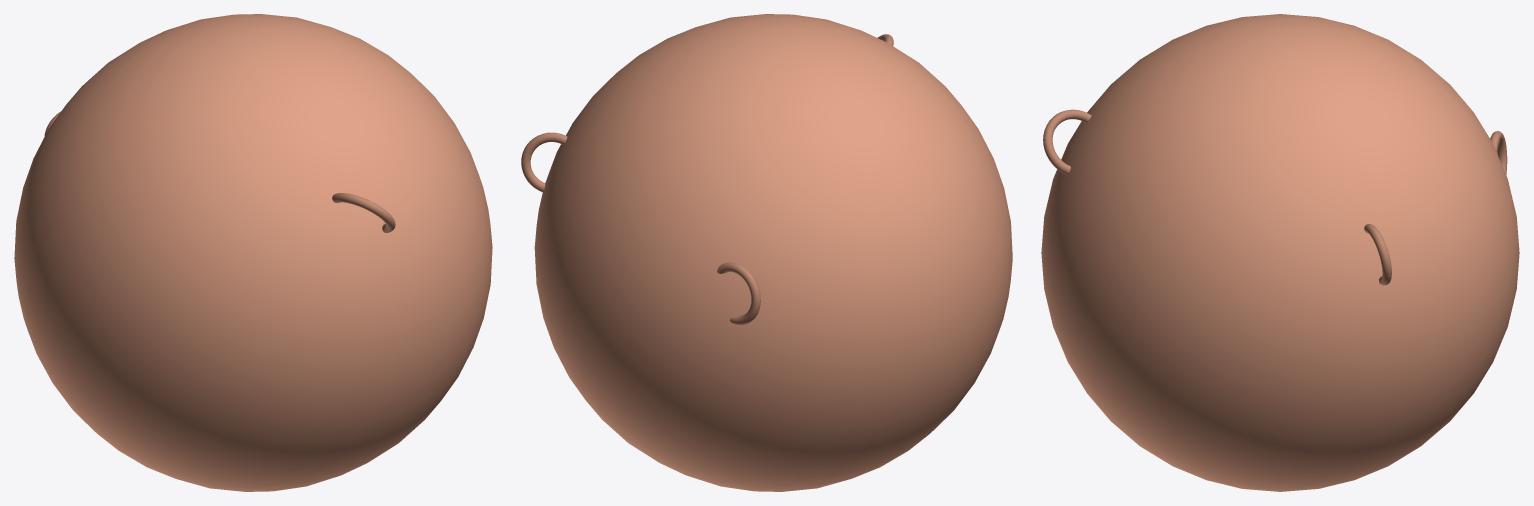
File: mars.glb
3 views of the same model, side by side, from view 1: azimuth 30°, elevation 25°; view 2: azimuth 150°, elevation 25°; view 3: azimuth 270°, elevation 25° (orthographic).
Parts seen in each view (by area): view 1: Icosphere; view 2: Icosphere; view 3: Icosphere.
Boxes of the visible parts, x1=… form: Icosphere: x1=14, y1=14, x2=492, y2=491; Icosphere: x1=521, y1=14, x2=1012, y2=491; Icosphere: x1=1041, y1=14, x2=1519, y2=491.
Size of the model in its own units: 0.08 by 0.08 by 0.08.
